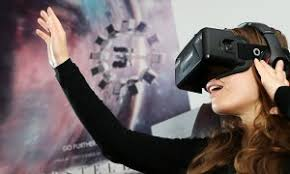oculus: (174, 27, 276, 92)
